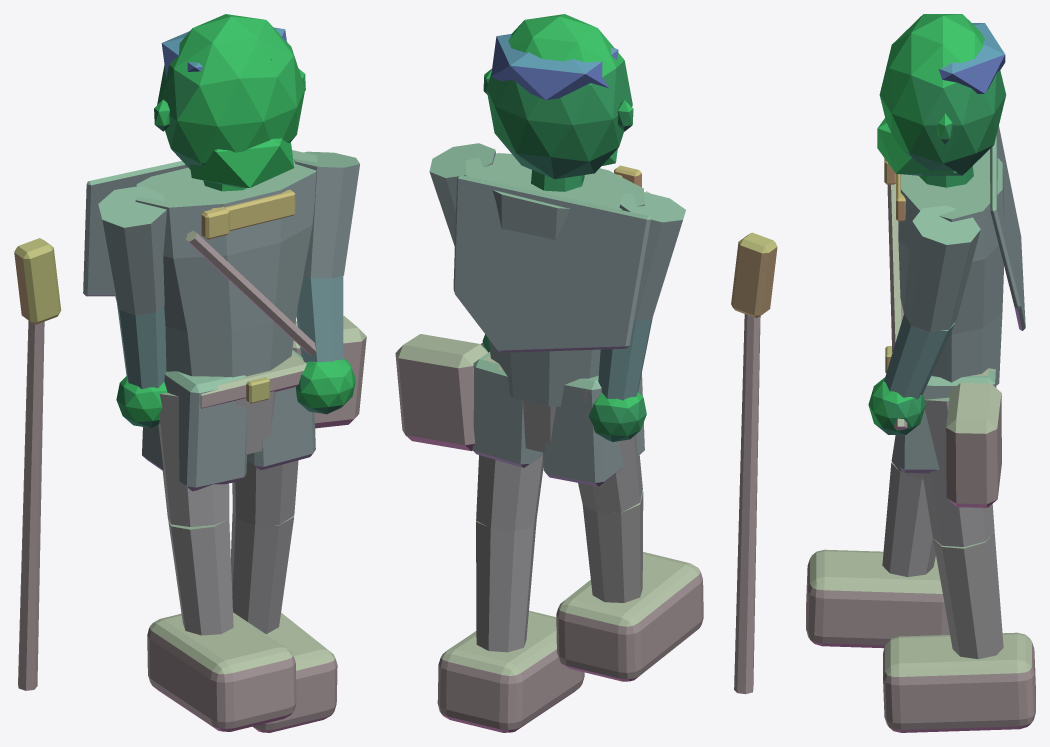
The model's file is npc_scout_passing_r_v01.glb.
3 renders of one model, left to right at view 1: azimuth 30°, elevation 25°; view 2: azimuth 150°, elevation 25°; view 3: azimuth 270°, elevation 25°, orthographic. The views are drawn at different scales.
Visible parts, largest first — view 1: GEO_npc_scout_passing_r_v01; view 2: GEO_npc_scout_passing_r_v01; view 3: GEO_npc_scout_passing_r_v01.
Boxes of the visible parts, x1=… form: GEO_npc_scout_passing_r_v01: x1=14, y1=14, x2=366, y2=732; GEO_npc_scout_passing_r_v01: x1=395, y1=14, x2=777, y2=732; GEO_npc_scout_passing_r_v01: x1=806, y1=14, x2=1035, y2=732.
Size of the model in its own units: 1.1 by 2.06 by 0.6278.
